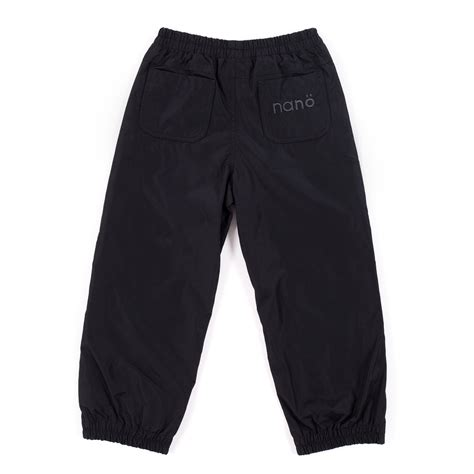nylon: (78, 27, 387, 455)
